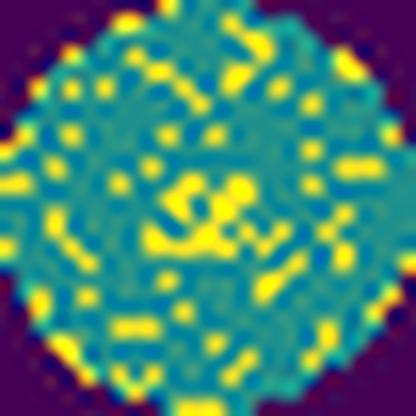Center: (141, 171, 289, 270)
